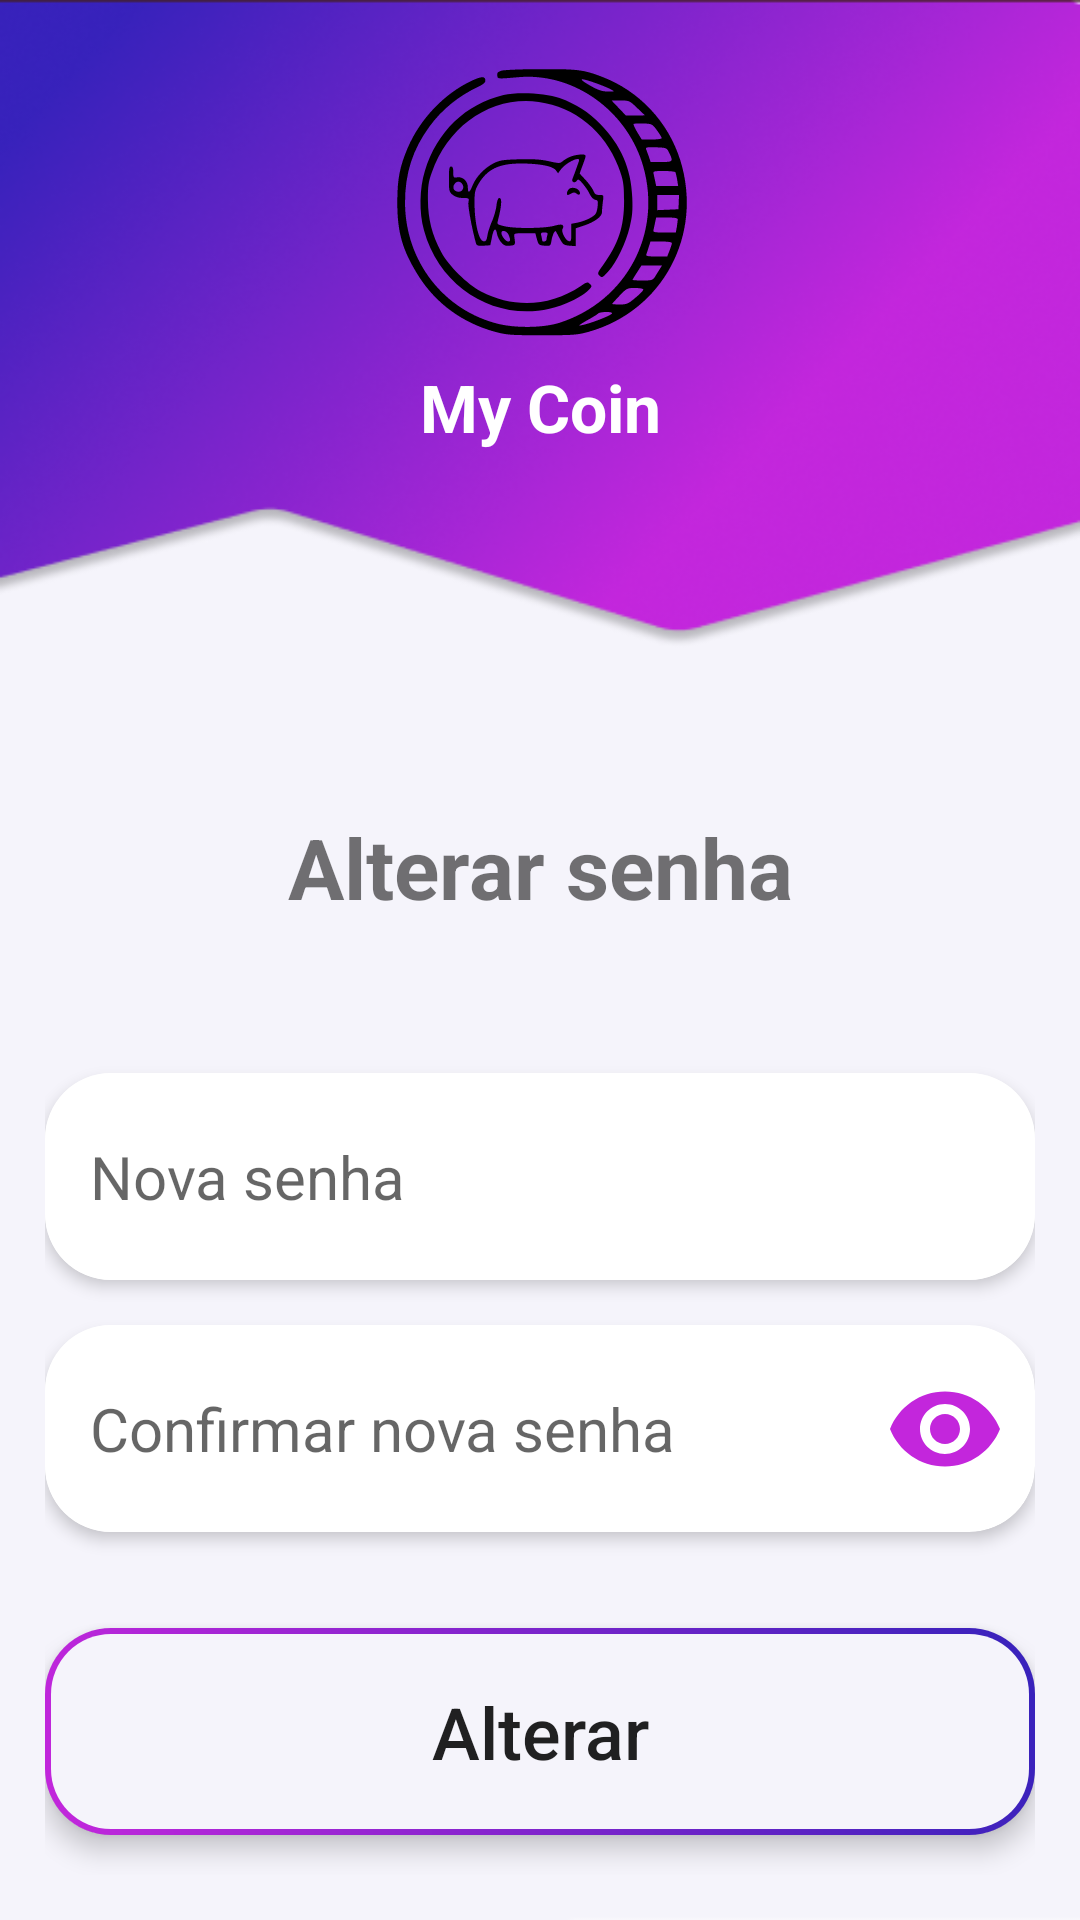

Icons on this 1080x1920 Android screen, each with its box as {"x1": x1, "y1": y1, "x2": x2, "y2": y2}:
eye: {"x1": 890, "y1": 1391, "x2": 1000, "y2": 1467}
